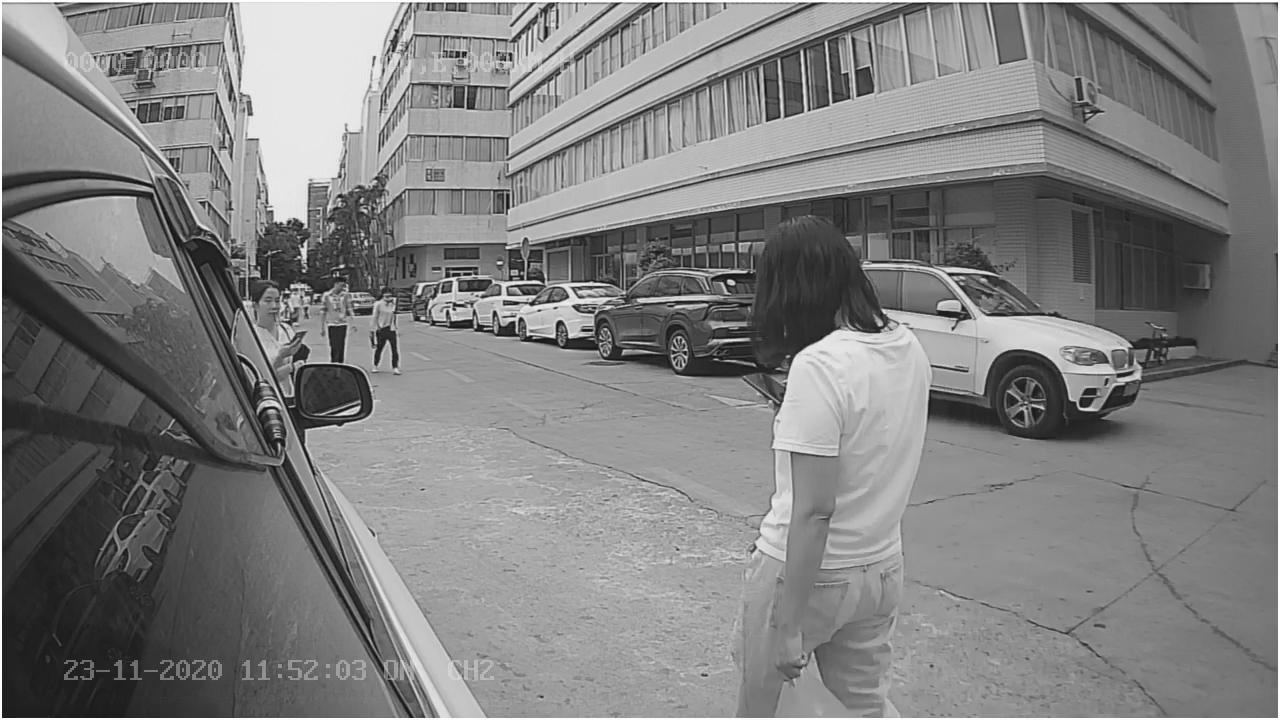person: (734, 211, 958, 556)
